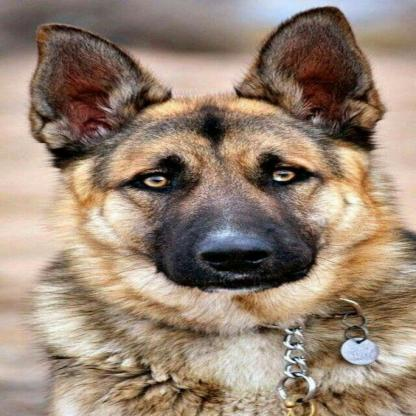german shepherd: (25, 9, 416, 416)
